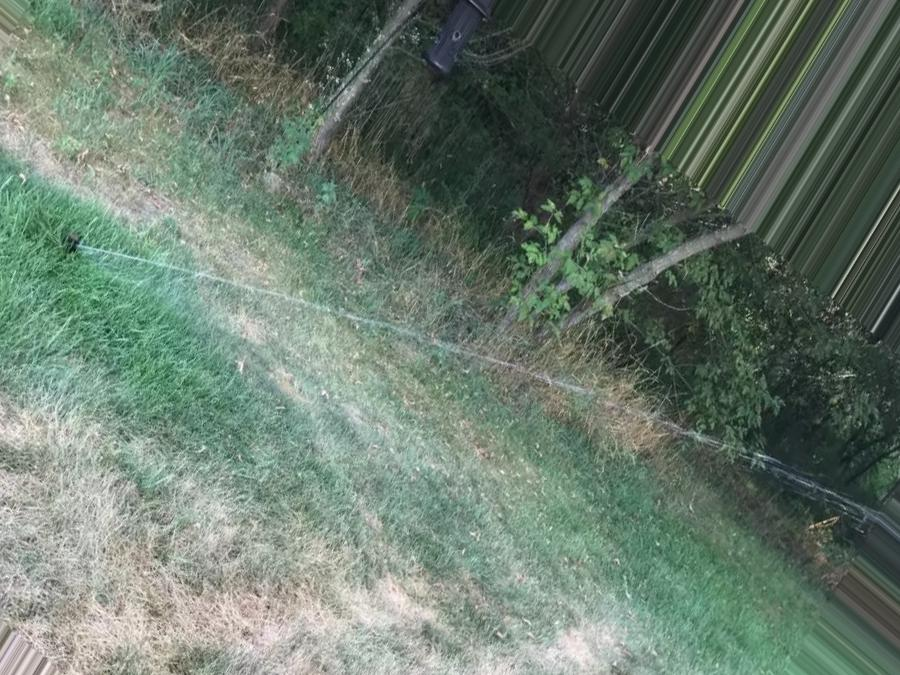patch: (20, 444, 229, 661), (254, 554, 418, 671), (37, 155, 147, 215), (482, 641, 616, 675)
